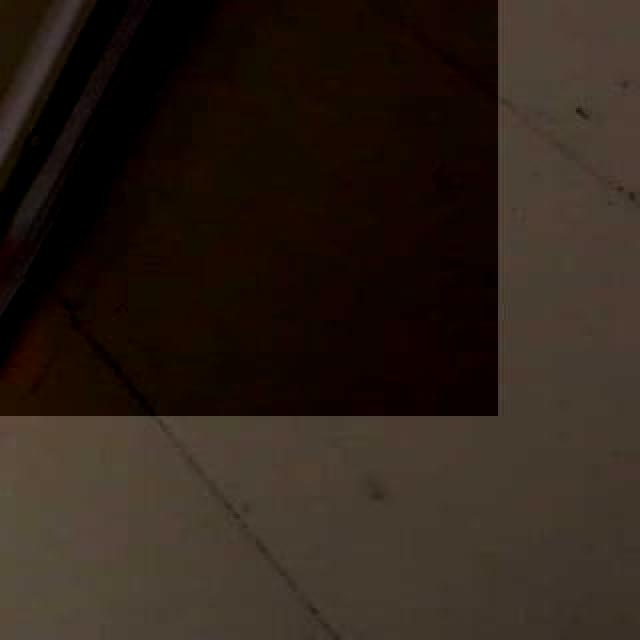fluorescent tube: (0, 0, 420, 400)
